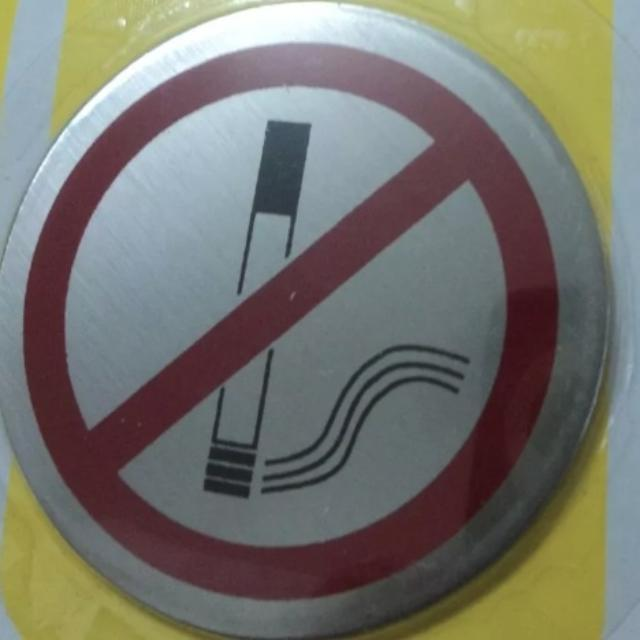cam hut thuoc: (25, 42, 558, 599)
